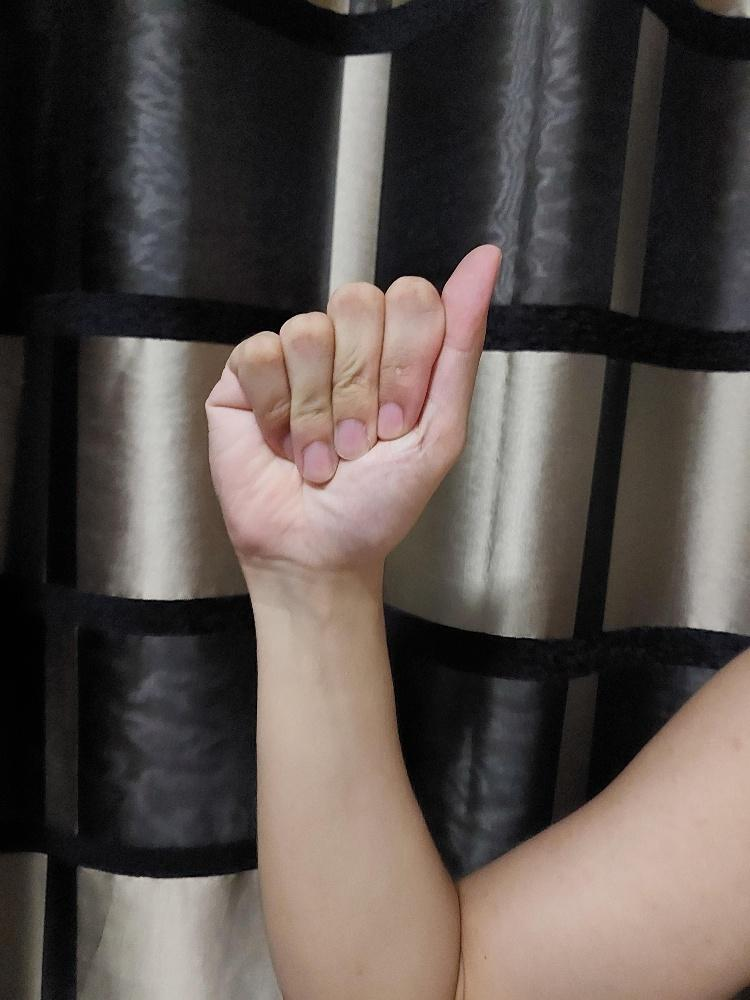a: (201, 239, 505, 574)
